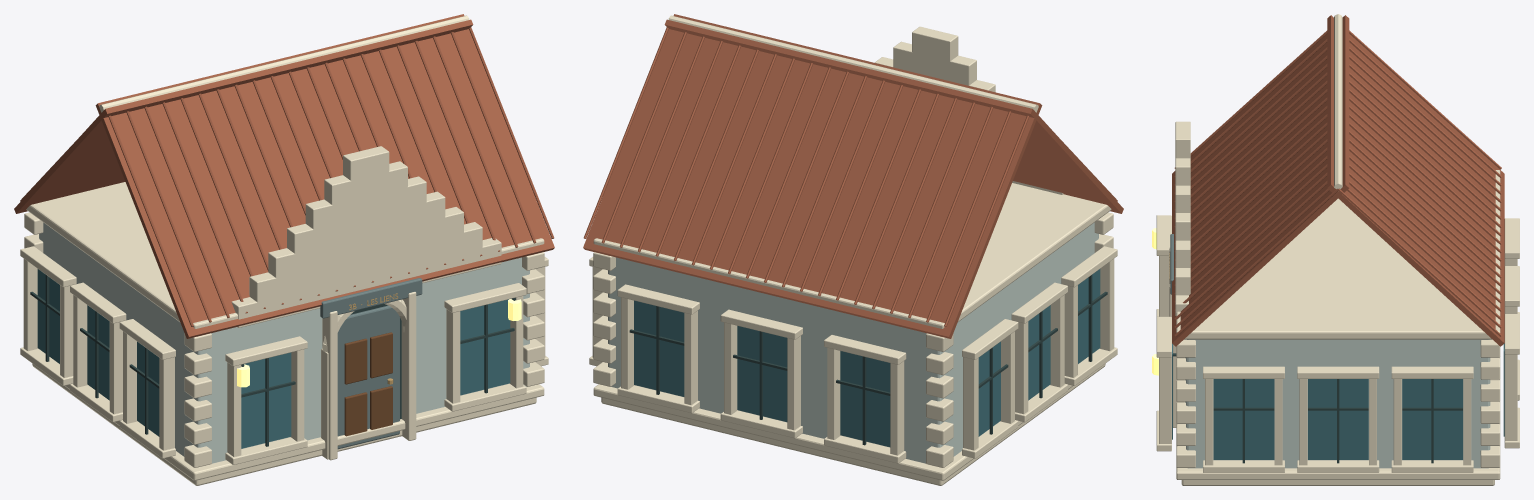
File: estonie-1.glb
3 renders of one model, left to right at view 1: azimuth 30°, elevation 25°; view 2: azimuth 150°, elevation 25°; view 3: azimuth 270°, elevation 25°, orthographic. The views are drawn at different scales.
Parts seen in each view (by area): view 1: estonie-1_Regional roof.001, estonie-1_Dressed stone.001, estonie-1_Masonry plaster.001, estonie-1_Window blue, estonie-1_Regional painted wood.001, estonie-1_Walnut, estonie-1_Forged midnight, estonie-1_Warm light; view 2: estonie-1_Regional roof.001, estonie-1_Dressed stone.001, estonie-1_Masonry plaster.001, estonie-1_Window blue, estonie-1_Forged midnight; view 3: estonie-1_Regional roof.001, estonie-1_Dressed stone.001, estonie-1_Masonry plaster.001, estonie-1_Window blue, estonie-1_Forged midnight.
Boxes of the visible parts, x1,y1,x2,y2 form: estonie-1_Regional roof.001: [14, 14, 554, 338]; estonie-1_Dressed stone.001: [20, 15, 548, 485]; estonie-1_Masonry plaster.001: [39, 222, 529, 463]; estonie-1_Window blue: [37, 269, 510, 448]; estonie-1_Regional painted wood.001: [320, 278, 422, 449]; estonie-1_Walnut: [344, 332, 392, 436]; estonie-1_Forged midnight: [30, 275, 515, 446]; estonie-1_Warm light: [237, 299, 521, 387]; estonie-1_Regional roof.001: [583, 14, 1123, 338]; estonie-1_Dressed stone.001: [589, 15, 1117, 485]; estonie-1_Masonry plaster.001: [608, 222, 1098, 463]; estonie-1_Window blue: [634, 269, 1100, 446]; estonie-1_Forged midnight: [629, 275, 1107, 445]; estonie-1_Regional roof.001: [1172, 15, 1504, 346]; estonie-1_Dressed stone.001: [1156, 14, 1519, 485]; estonie-1_Masonry plaster.001: [1186, 339, 1490, 468]; estonie-1_Window blue: [1172, 343, 1504, 459]; estonie-1_Forged midnight: [1173, 353, 1462, 463].
Bounding box in the file's own units: 13.94 × 11.2 × 12.09.
